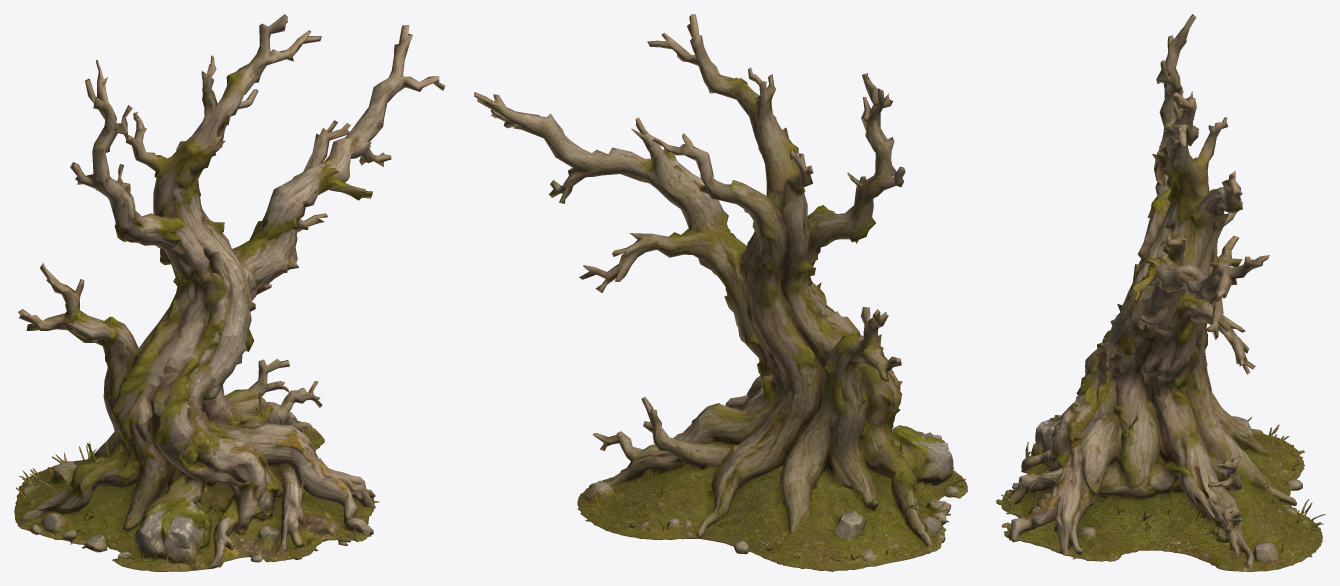
The model's file is dead_oak_tripo.glb.
3 renders of one model, left to right at view 1: azimuth 30°, elevation 25°; view 2: azimuth 150°, elevation 25°; view 3: azimuth 270°, elevation 25°, orthographic. The views are drawn at different scales.
Parts seen in each view (by area): view 1: tripo_node_e0a6069f-3c69-40c4-b494-55a17133477f; view 2: tripo_node_e0a6069f-3c69-40c4-b494-55a17133477f; view 3: tripo_node_e0a6069f-3c69-40c4-b494-55a17133477f.
Part boxes in pixels (box(x1,y1,x2,y2)): tripo_node_e0a6069f-3c69-40c4-b494-55a17133477f: box(14, 14, 445, 571); tripo_node_e0a6069f-3c69-40c4-b494-55a17133477f: box(474, 14, 967, 571); tripo_node_e0a6069f-3c69-40c4-b494-55a17133477f: box(996, 14, 1325, 571).
Bounding box in the file's own units: 0.9895 × 1 × 0.6656.
Materials: 1 (1 with a texture image).
